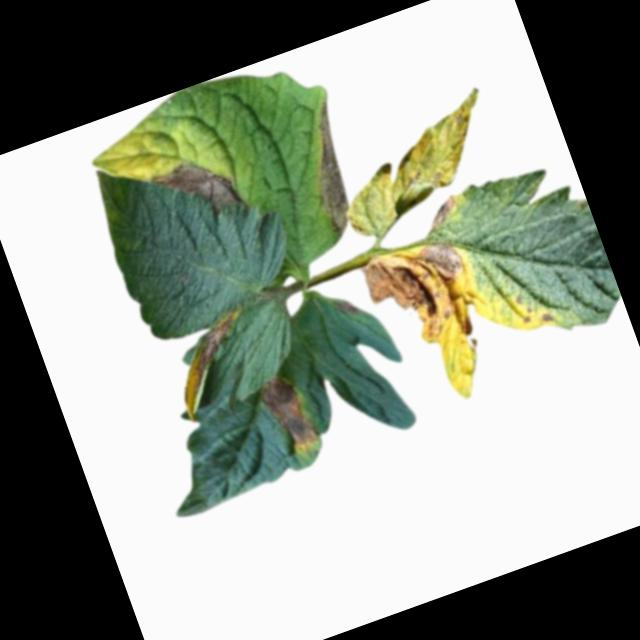Early_blight: (358, 231, 487, 359), (160, 307, 267, 418), (288, 99, 372, 239), (148, 148, 242, 230), (256, 367, 330, 458), (423, 193, 465, 233), (334, 293, 365, 323), (539, 310, 558, 328)
